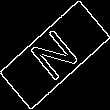N_SE: (25, 23, 85, 87)
